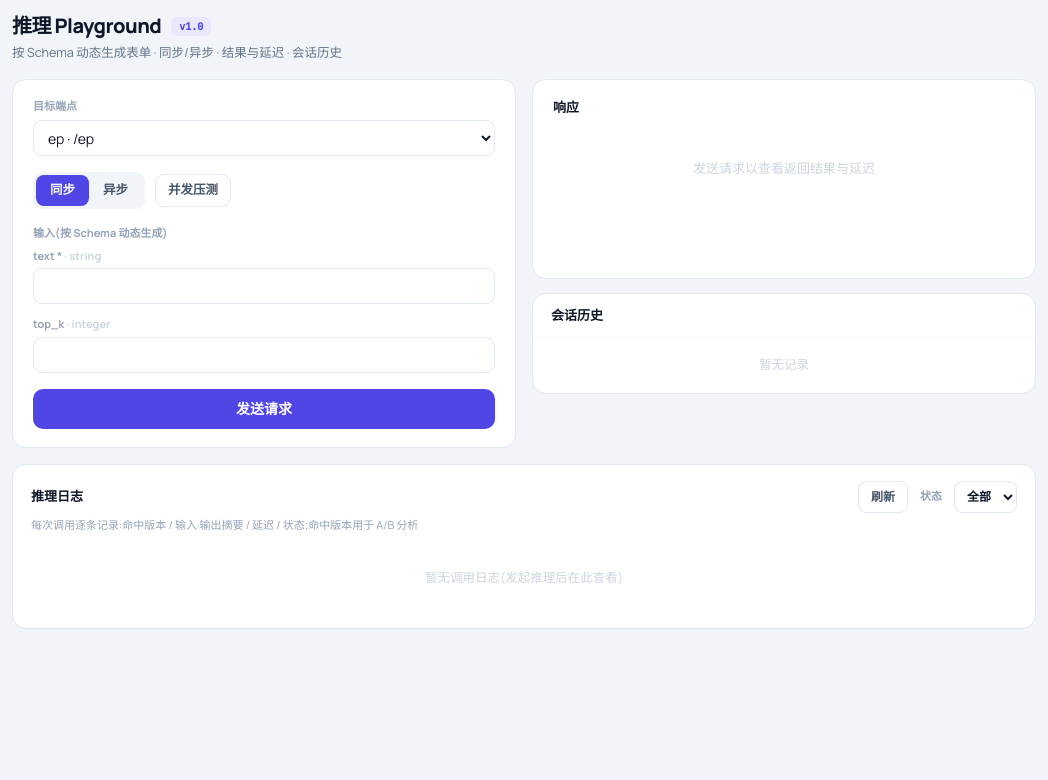
Scenario: PlaygroundPage 接通推理 API › 异步生命周期显式呈现:任务 ID + queued→running→succeeded 时间线 + 入历史
expect the field with test id "pg-field-text" is shown: met, box [33,268,495,304]
Click the button "异步": point(116, 191) [89,175,142,206]
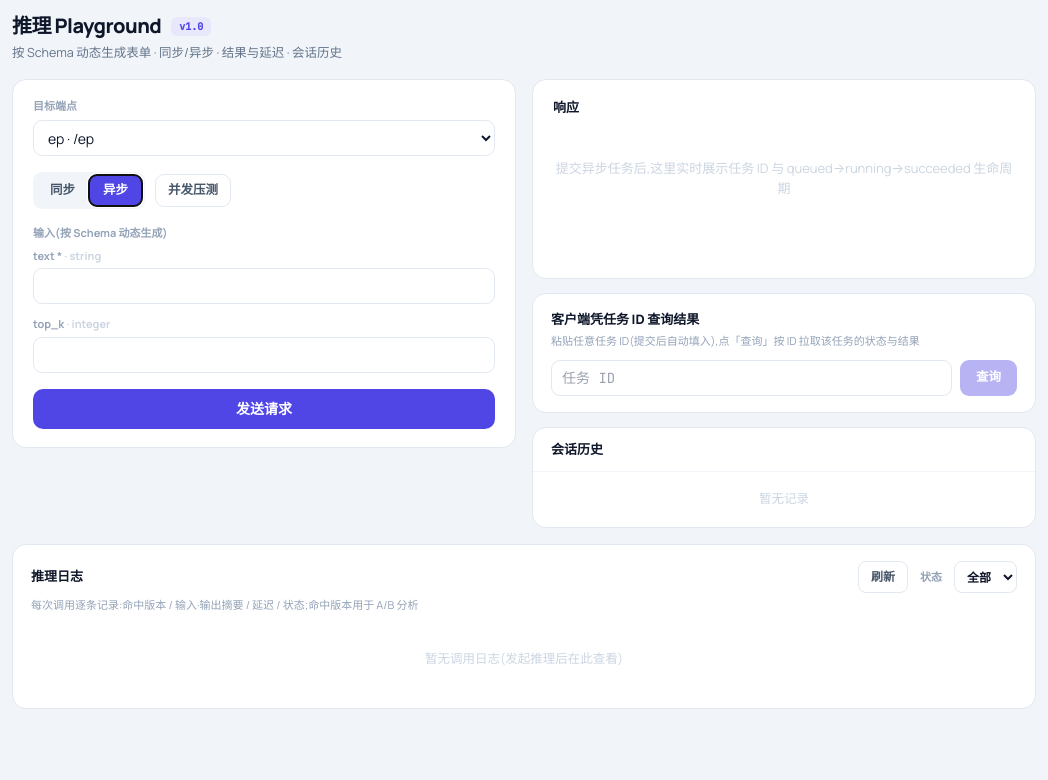
In the field with test id "pg-field-text": point(264, 286) [33,268,495,304], type "hi"
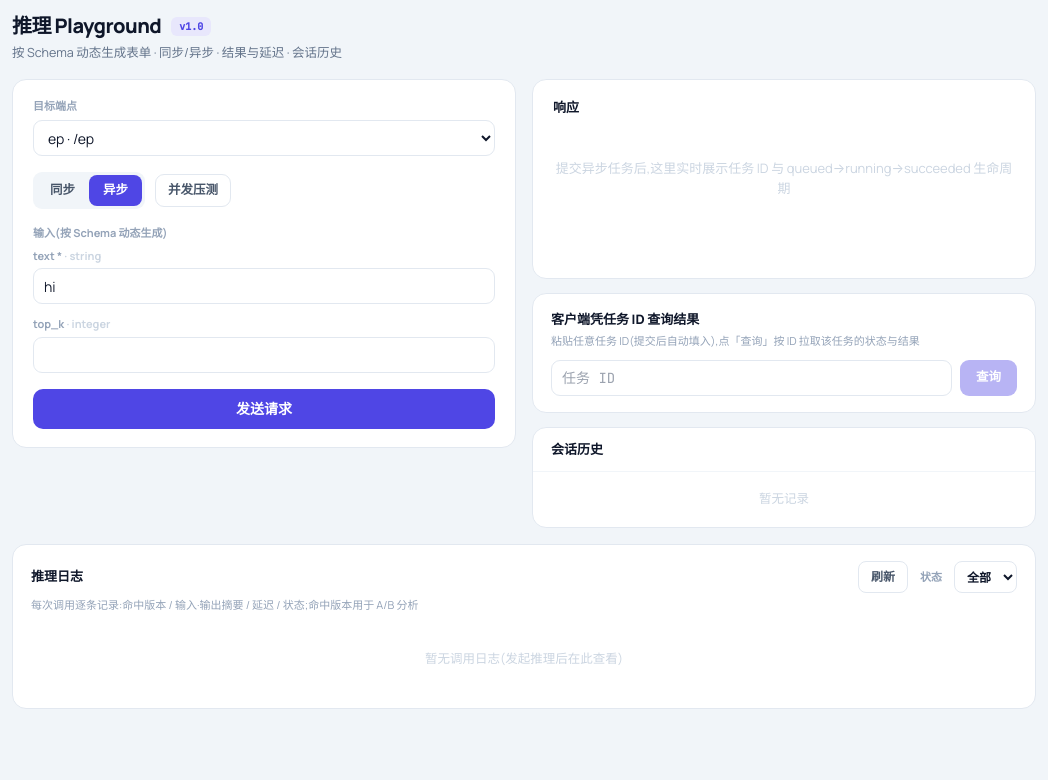
Click the button "发送请求": point(264, 408) [33,388,495,428]
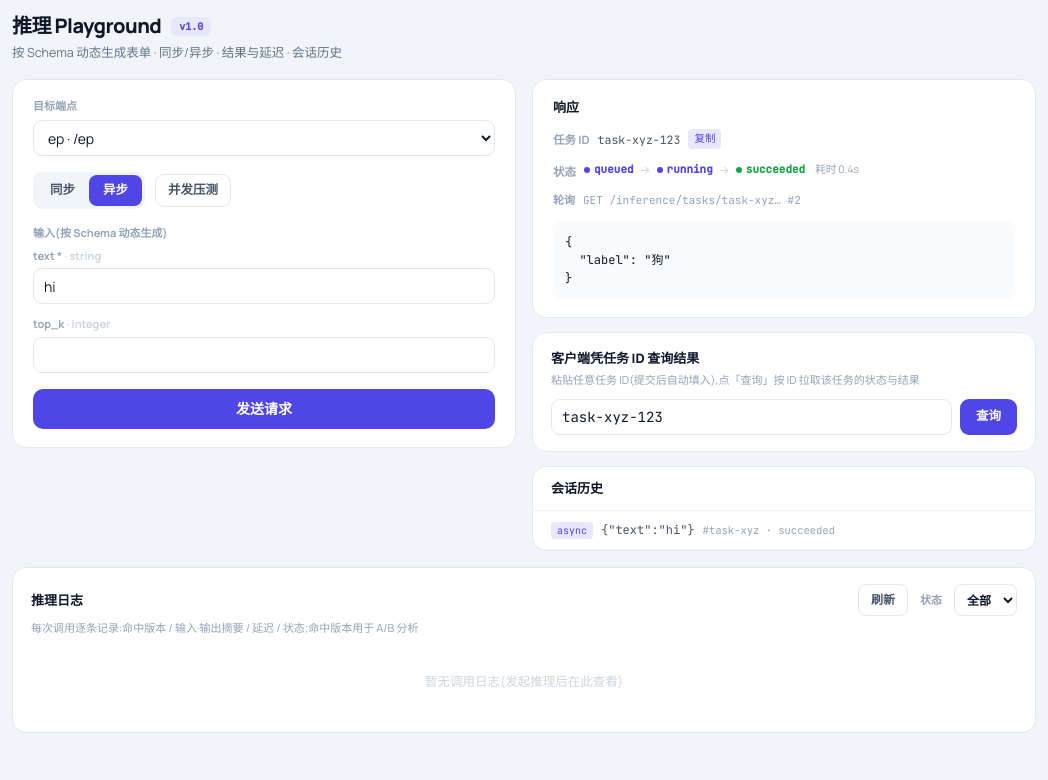
expect the text with test id "pg-async-taskid" reads "task-xyz-123": met, box [598,132,680,146]
expect the element with test id "pg-async-timeline" shows "queued": met, box [594,162,634,176]
expect the element with test id "pg-async-timeline" shows "running": met, box [667,162,713,176]
